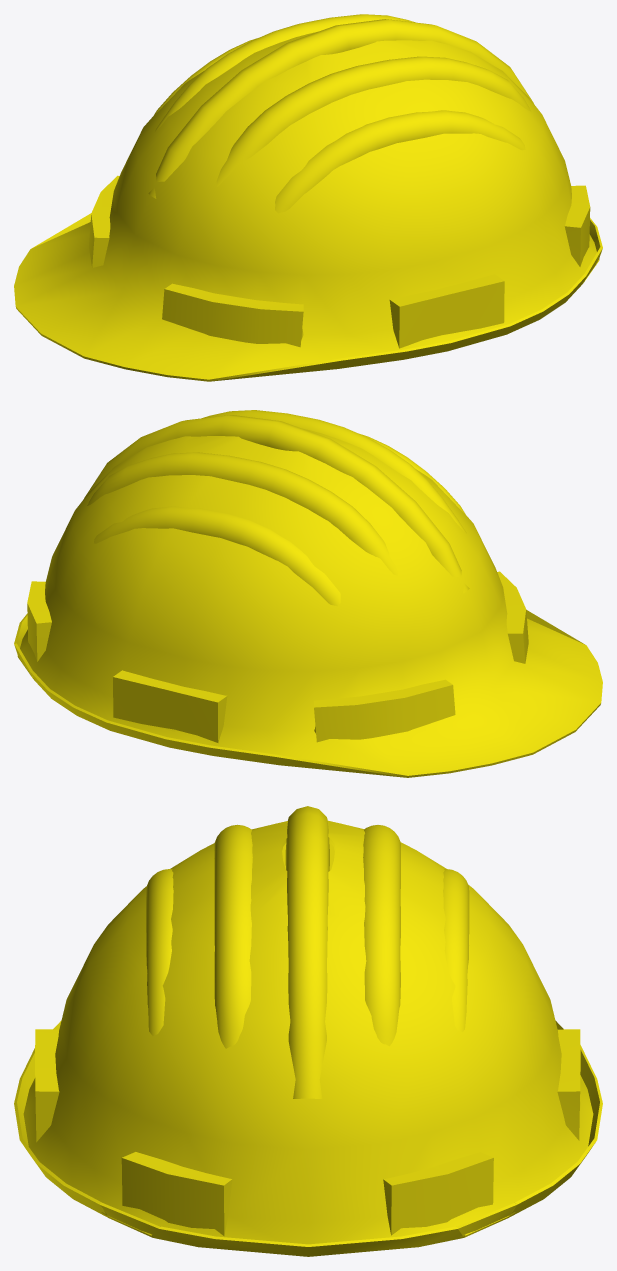
Rendered from saftey helmet.FBX.
3 renders of one model, top to bottom at view 1: azimuth 30°, elevation 25°; view 2: azimuth 150°, elevation 25°; view 3: azimuth 270°, elevation 25°, orthographic. The views are drawn at different scales.
Parts seen in each view (by area): view 1: Object; view 2: Object; view 3: Object.
Boxes of the visible parts, x1,y1,x2,y2 form: Object: (14, 14, 602, 381); Object: (14, 410, 602, 777); Object: (14, 806, 602, 1256).
Bounding box in the file's own units: 70.07 × 55.4 × 29.83.
